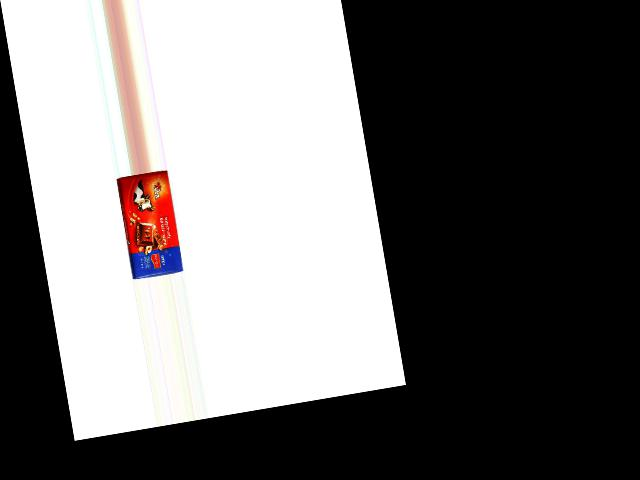chocolate: (111, 170, 182, 279)
